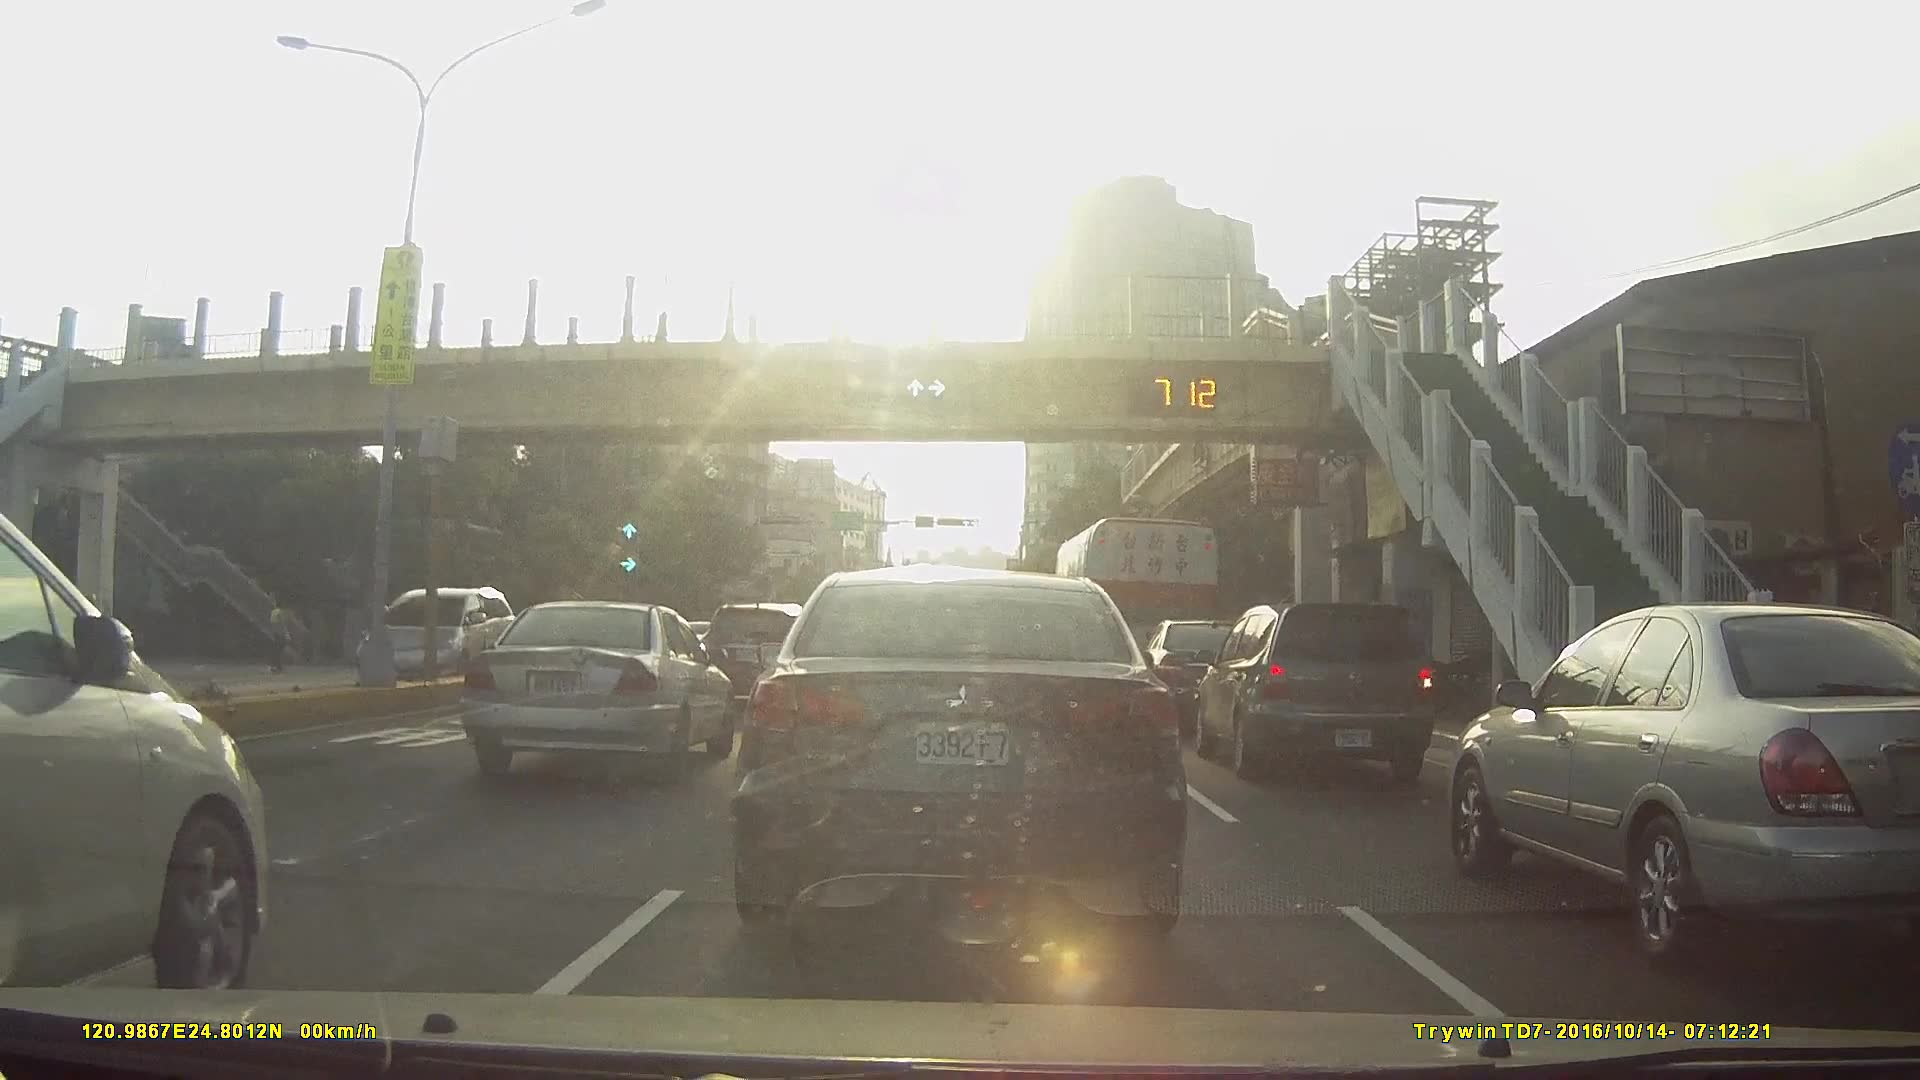vehicle: (1455, 603, 1920, 975), (729, 562, 1188, 934), (0, 484, 289, 1018), (467, 601, 741, 774), (1195, 603, 1437, 787), (342, 584, 525, 695), (1142, 618, 1276, 729), (703, 600, 816, 707)
